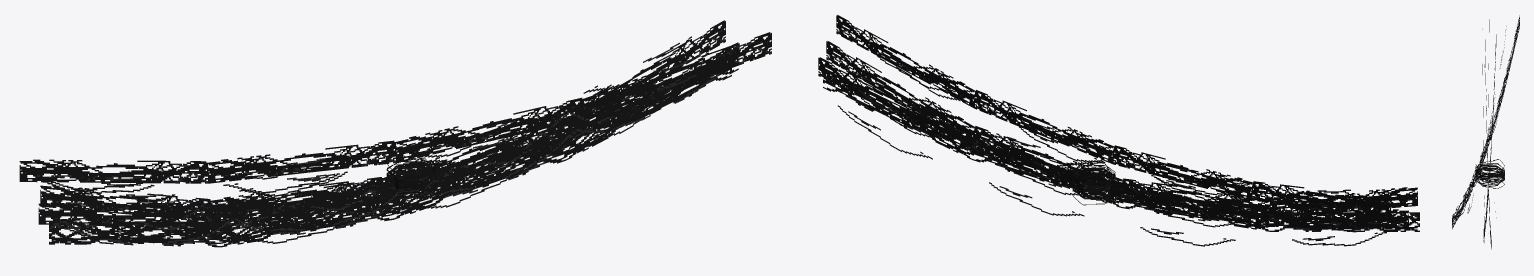
Rendered from cables_cluster.glb.
The picture shows the model from 3 angles, left to right: view 1: azimuth 30°, elevation 25°; view 2: azimuth 150°, elevation 25°; view 3: azimuth 270°, elevation 25°; orthographic projection. The views are drawn at different scales.
Visible parts, largest first — view 1: cables_cluster_cables_cut; view 2: cables_cluster_cables_cut; view 3: cables_cluster_cables_cut.
Boxes of the visible parts, x1=… form: cables_cluster_cables_cut: x1=19, y1=20, x2=771, y2=247; cables_cluster_cables_cut: x1=818, y1=15, x2=1419, y2=246; cables_cluster_cables_cut: x1=1452, y1=15, x2=1519, y2=249.
Size of the model in its own units: 8.22 by 1.66 by 1.14.
1 material, 1 textured.
